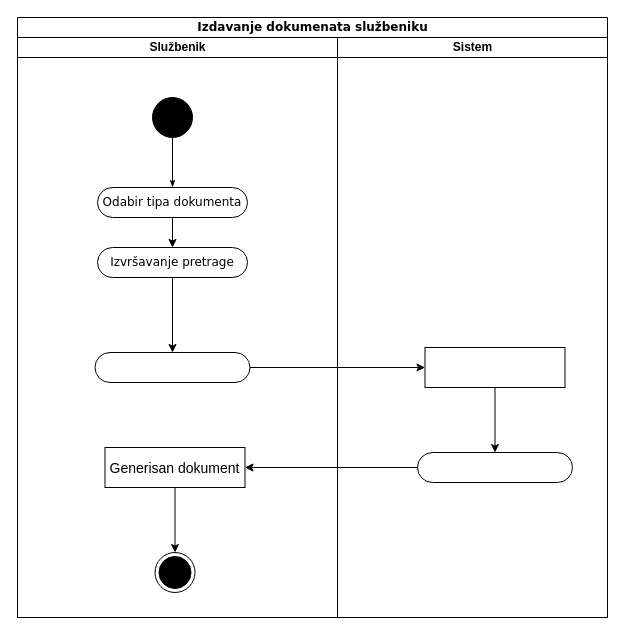
Image size: 625x635. Some labels were removed from this diagram. The shapes that lost their labels are listed below. From the top down, each one's centre as x and y in pixels, then its label:
(x=172, y=367): Odabir formata dokumenta
(x=494, y=367): Odabrani parametri
(x=494, y=467): Generisanje željenog dokumenta
